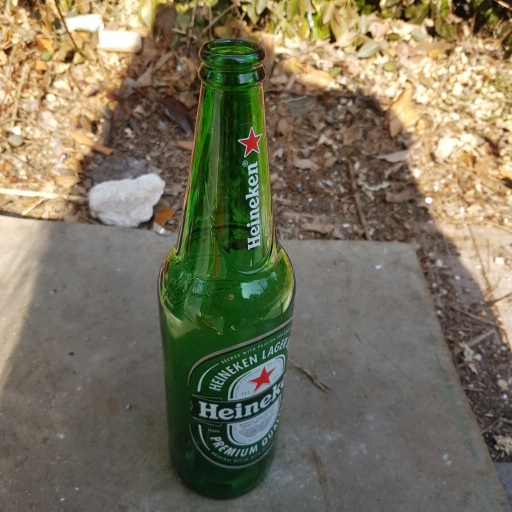Glass_1: (153, 36, 303, 495)
